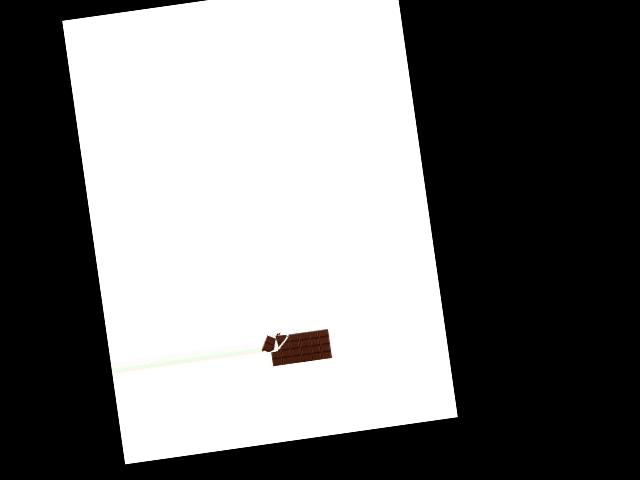chocolate: (258, 319, 333, 372)
